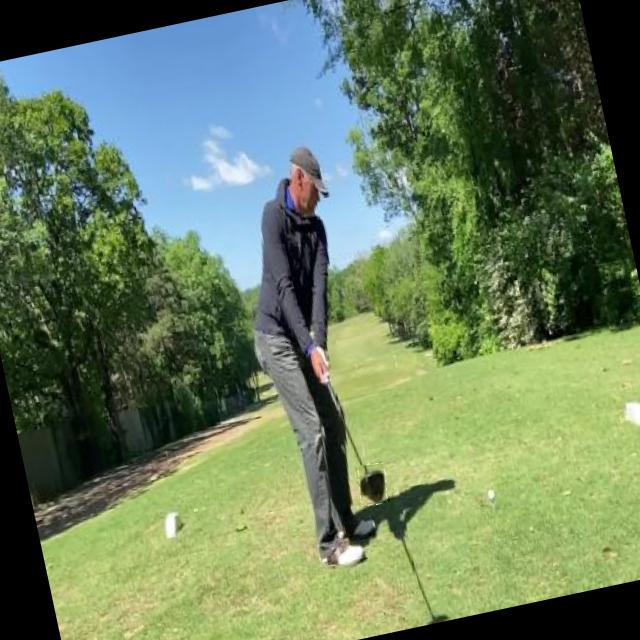club head: (354, 460, 390, 507)
